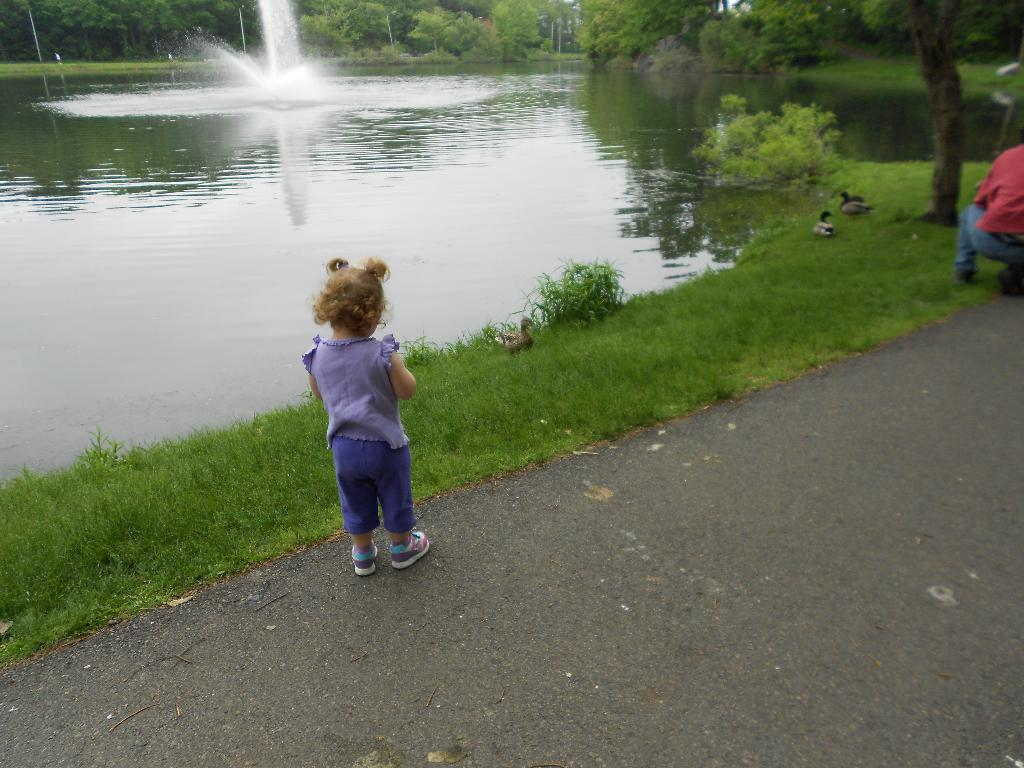Person: (301, 255, 429, 576), (954, 126, 1023, 294)
